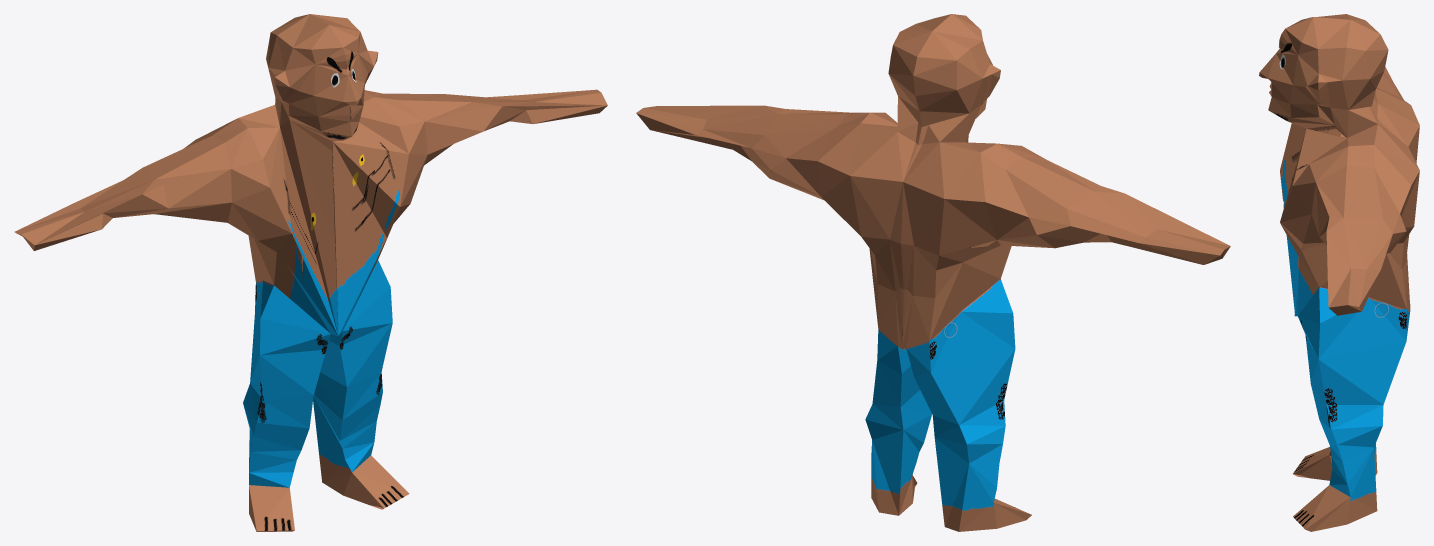
The model's file is avatar.obj.
3 views of the same model, side by side, from view 1: azimuth 30°, elevation 25°; view 2: azimuth 150°, elevation 25°; view 3: azimuth 270°, elevation 25° (orthographic).
Parts seen in each view (by area): view 1: Cube; view 2: Cube; view 3: Cube.
Boxes of the visible parts, x1=… form: Cube: x1=14, y1=14, x2=607, y2=531; Cube: x1=636, y1=14, x2=1230, y2=531; Cube: x1=1259, y1=14, x2=1419, y2=531.
Bounding box in the file's own units: 10.06 × 8.07 × 2.44.
